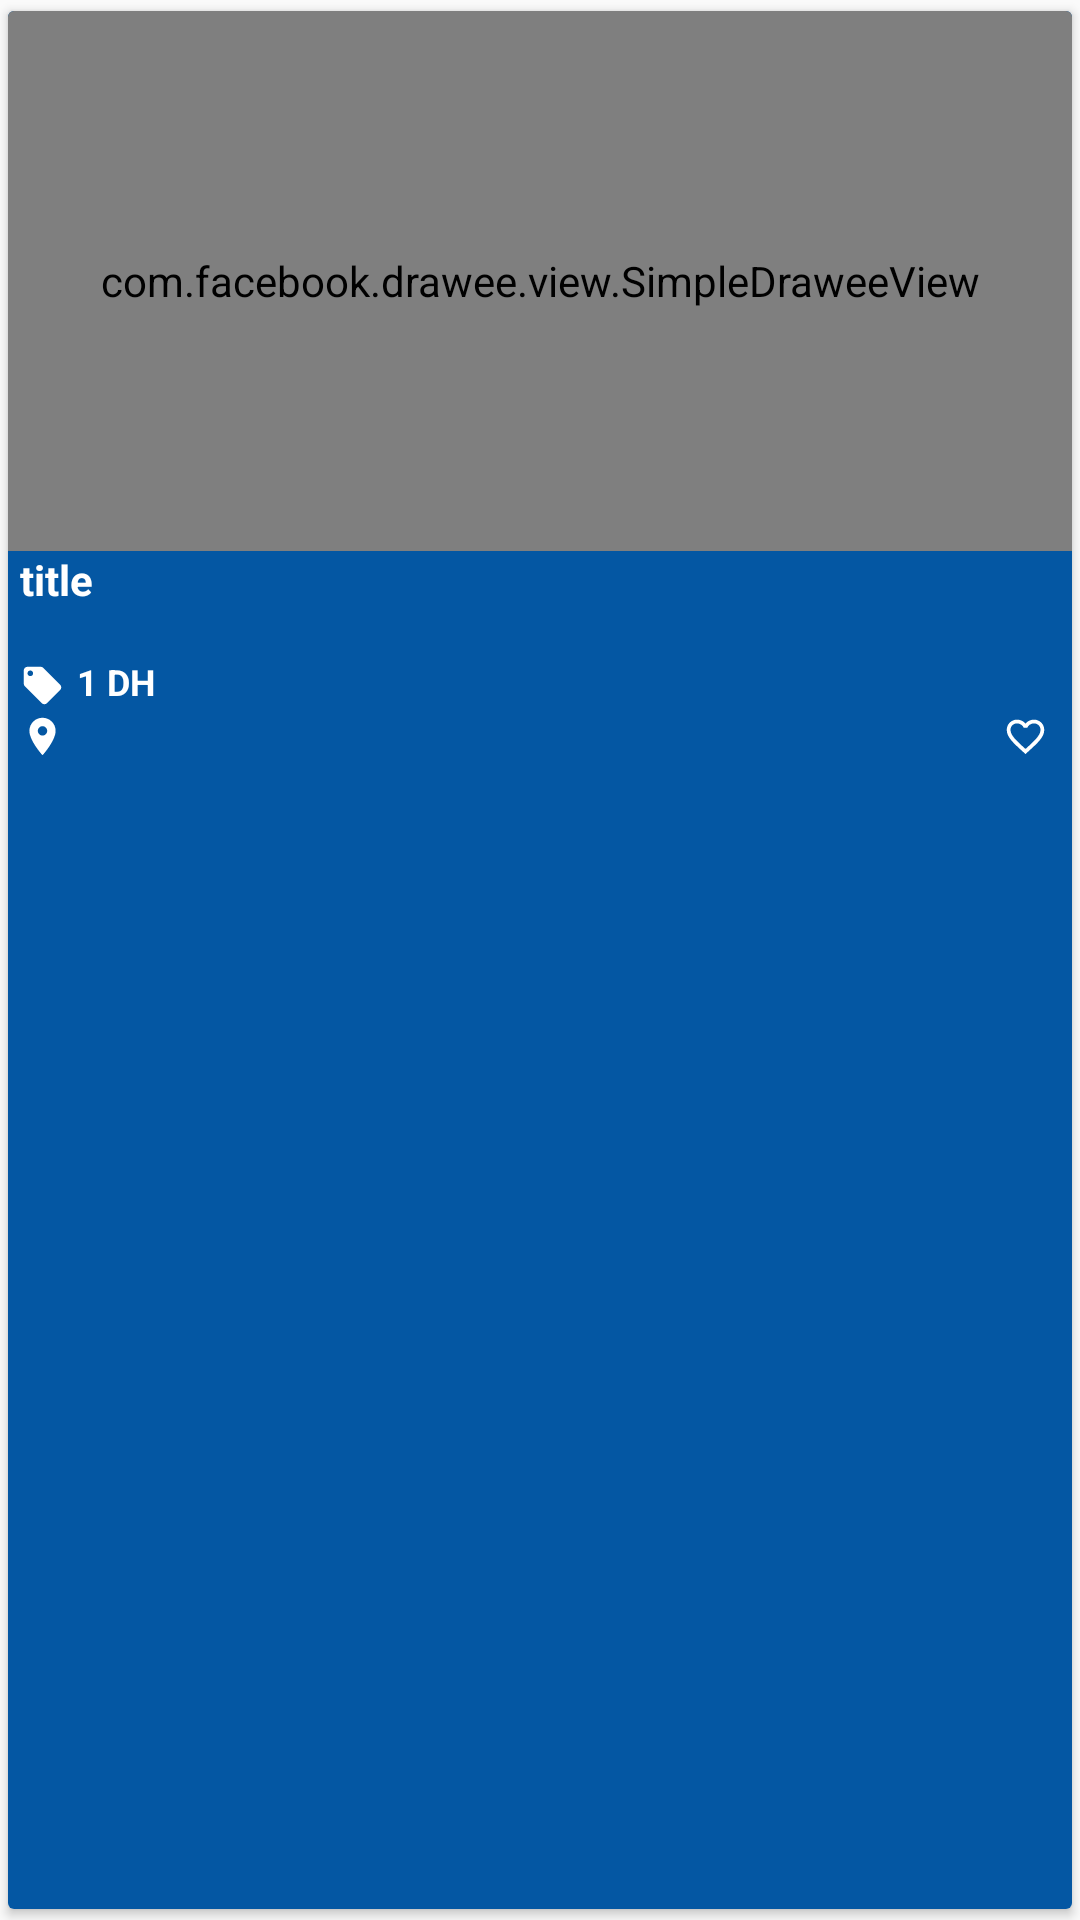

Point at icon controls on the screen. Image size 1080 × 1920, points as (x,y).
favorite border: (1025,736)
location: (42,736)
price: (42,685)
